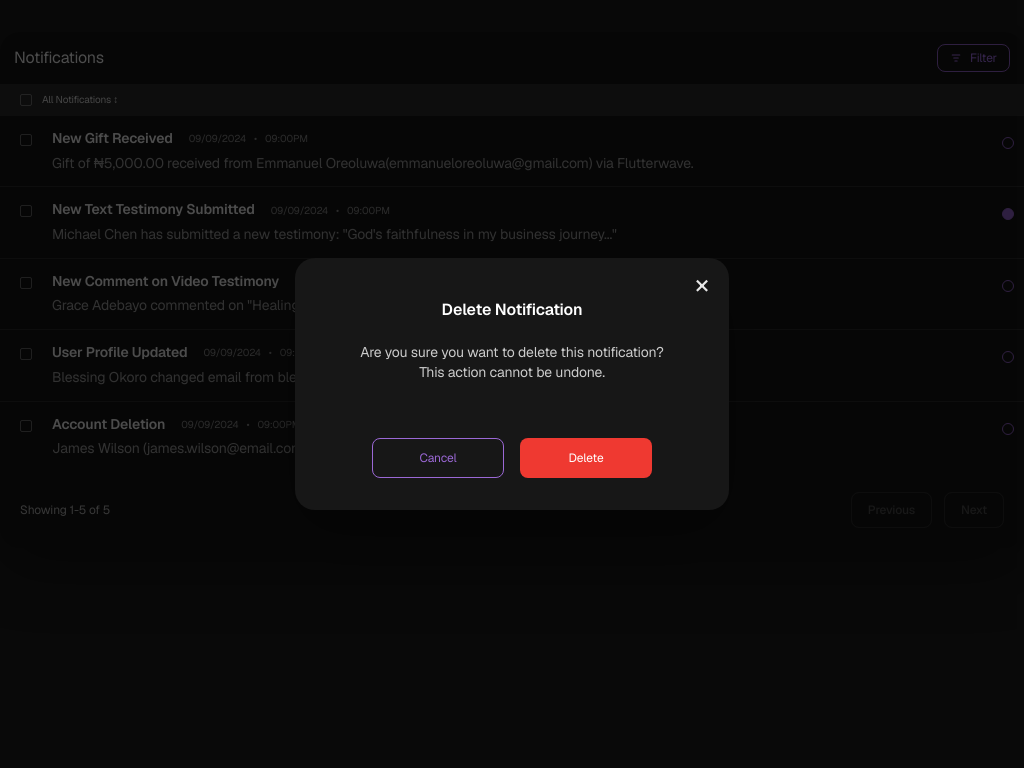
Test: NotificationsHistoryPage › closes route-opened delete notification modal without router navigation
The width and height of the screenshot is (1024, 768).
Click the button with aria-label "Cancel delete notification": click(438, 458) left=372, top=438, right=504, bottom=478
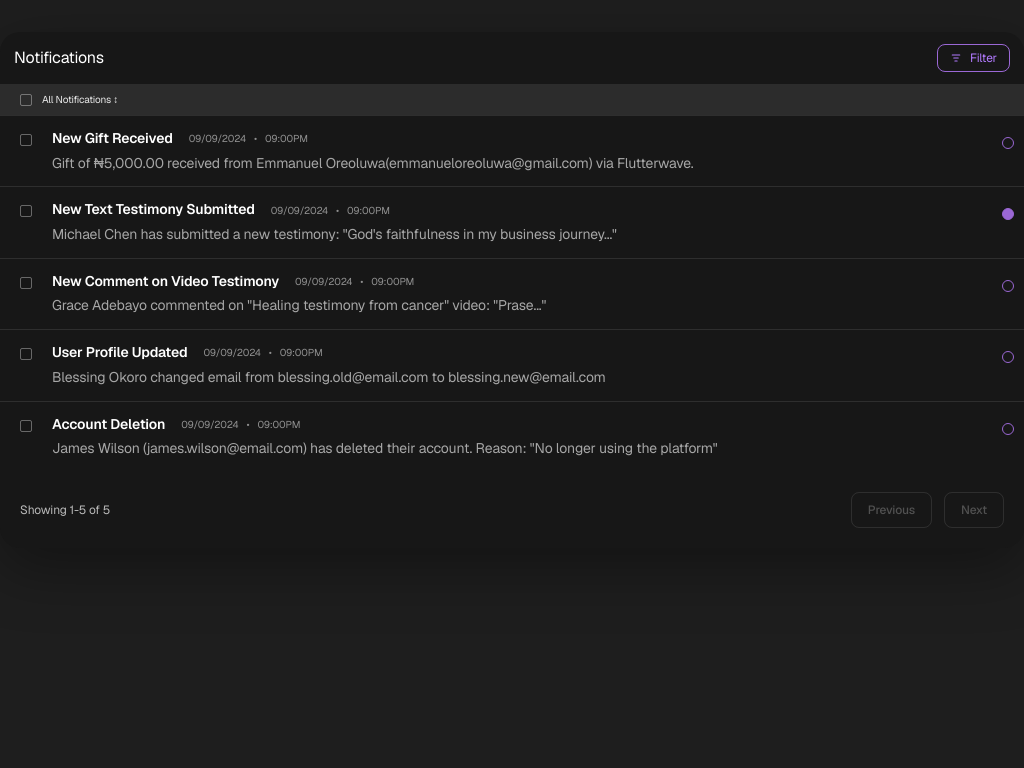
Result: the heading "Delete Notification" is gone
